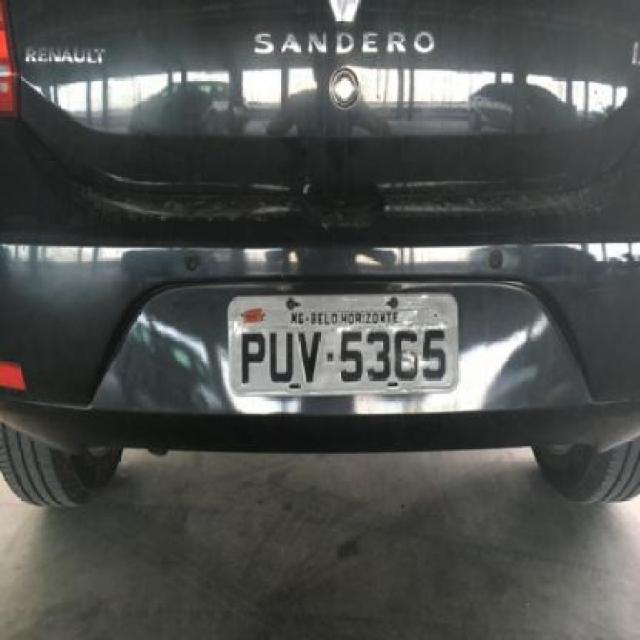old_plate: (224, 286, 464, 402)
